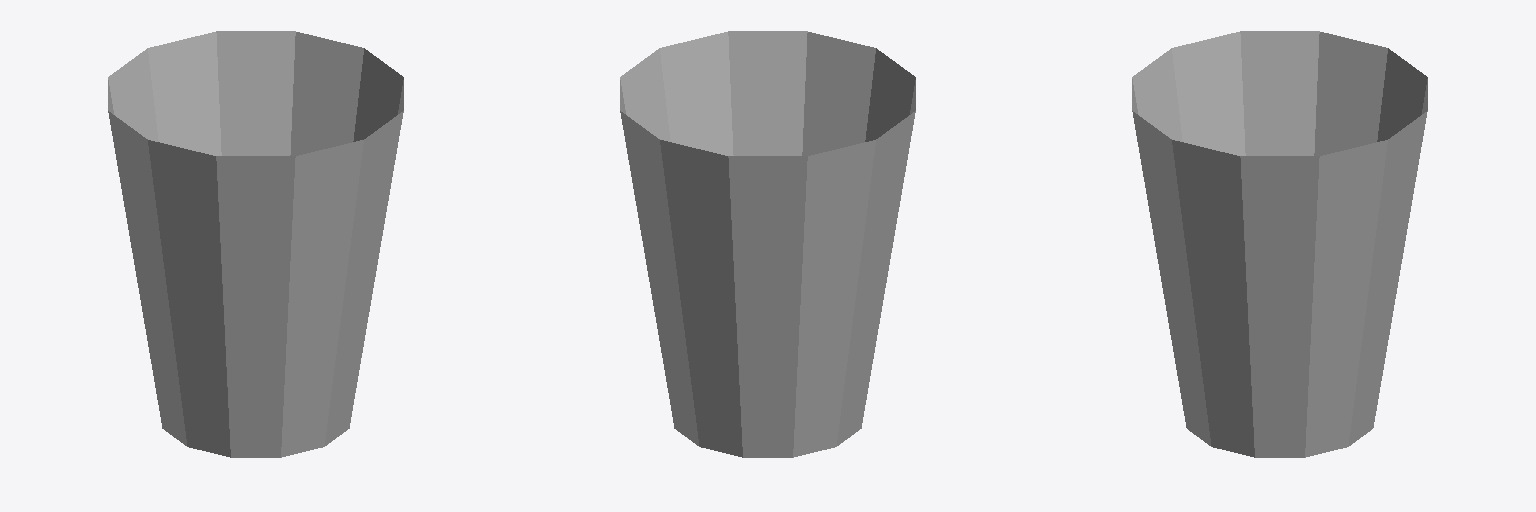
File: housesp_088.obj
3 views of the same model, side by side, from view 1: azimuth 30°, elevation 25°; view 2: azimuth 150°, elevation 25°; view 3: azimuth 270°, elevation 25° (orthographic).
Bounding box in the file's own units: 5.58 × 6.74 × 5.57.